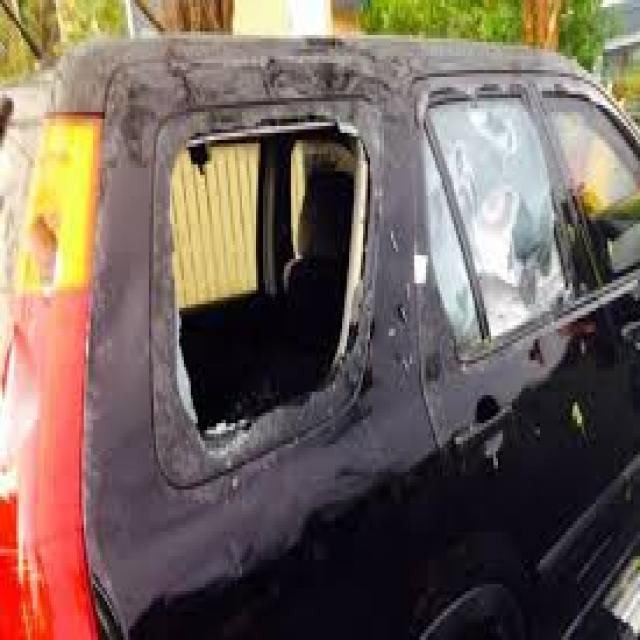moderate: (1, 7, 531, 517)
